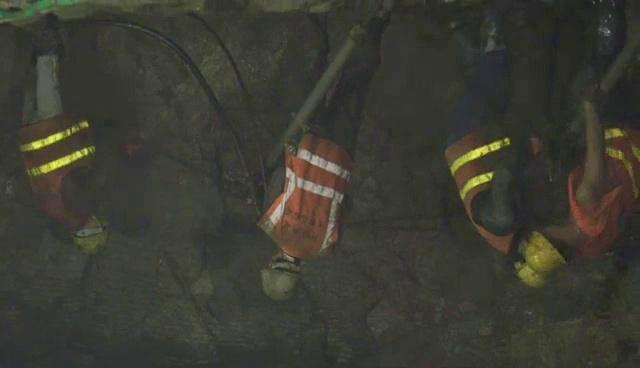helmet: (521, 213, 576, 273), (258, 248, 302, 301), (70, 212, 111, 256), (511, 250, 553, 288)
